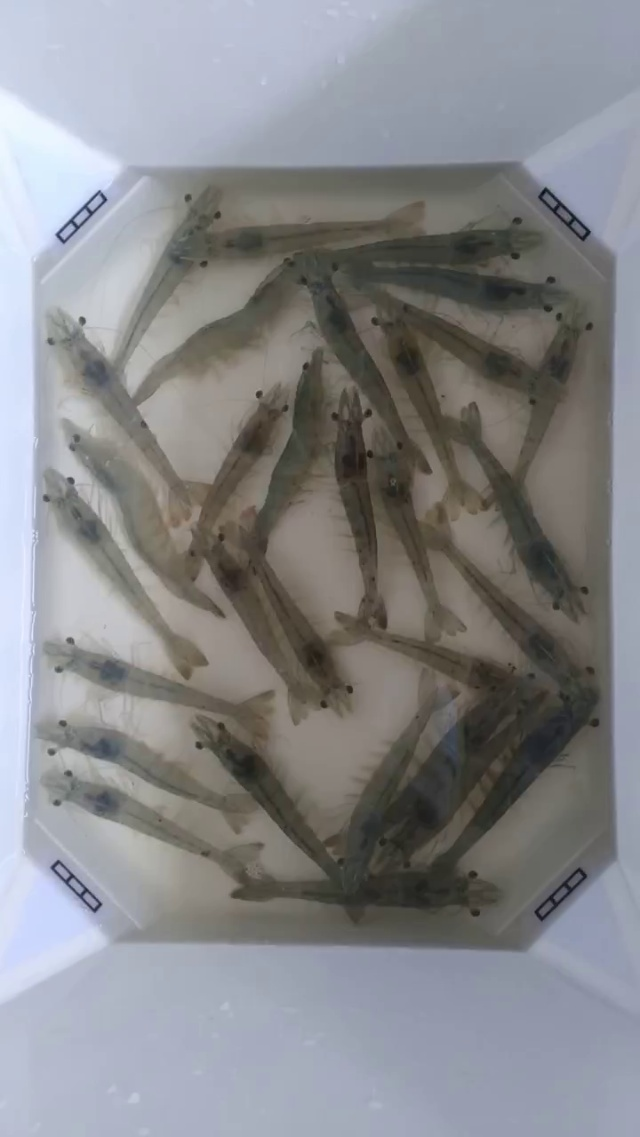shrimp: (555, 178, 639, 486), (562, 426, 639, 751), (578, 498, 639, 841), (201, 722, 312, 899), (76, 337, 186, 497), (144, 680, 257, 832), (48, 308, 156, 459), (0, 726, 98, 891), (429, 788, 530, 947), (455, 169, 567, 311), (264, 348, 353, 523), (335, 339, 430, 495), (191, 173, 287, 326), (34, 209, 137, 348), (190, 512, 282, 665), (43, 469, 141, 604), (513, 316, 584, 483), (32, 557, 101, 725), (309, 774, 382, 923), (383, 634, 513, 717), (0, 384, 38, 626), (0, 215, 34, 482), (264, 219, 385, 294), (136, 583, 224, 679), (420, 435, 484, 548), (331, 595, 424, 664)
